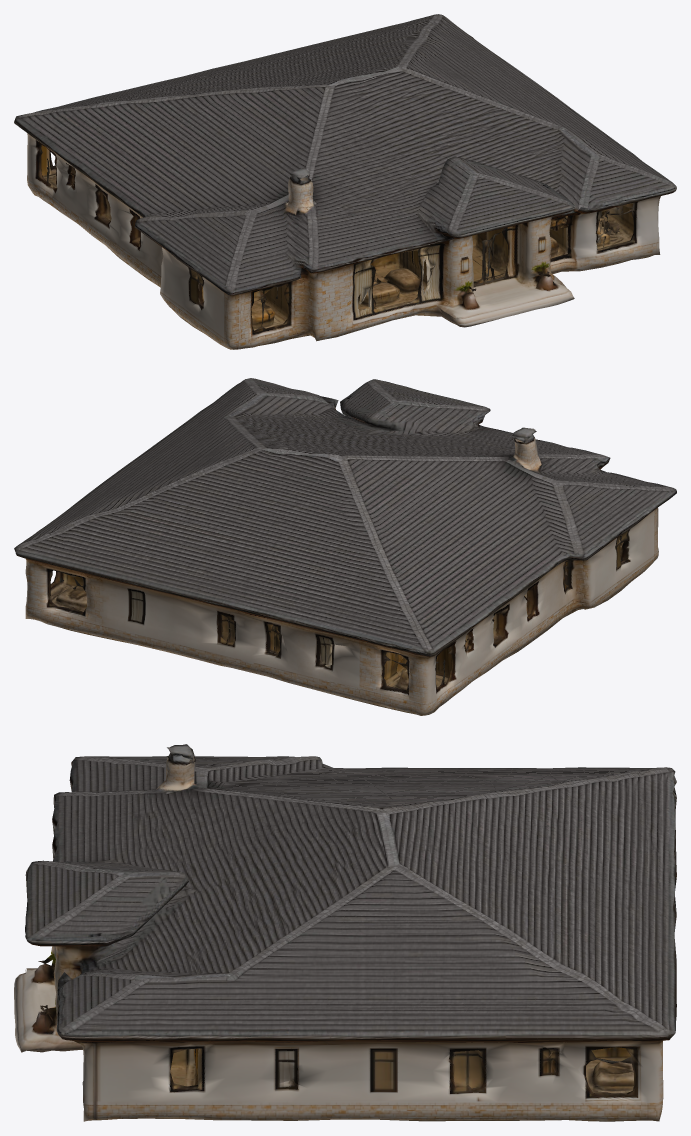
The model's file is tripo_convert_4a1ac447-02fc-4d89-bdd1-1f7308e81ab9.fbx.
3 renders of one model, top to bottom at view 1: azimuth 30°, elevation 25°; view 2: azimuth 150°, elevation 25°; view 3: azimuth 270°, elevation 25°, orthographic. The views are drawn at different scales.
Visible parts, largest first — view 1: tripo_node_4a1ac447; view 2: tripo_node_4a1ac447; view 3: tripo_node_4a1ac447.
Boxes of the visible parts, left/top/right/bottom form: tripo_node_4a1ac447: left=14, top=14, right=676, bottom=349; tripo_node_4a1ac447: left=14, top=378, right=676, bottom=715; tripo_node_4a1ac447: left=14, top=744, right=676, bottom=1121.
Size of the model in its own units: 97.85 by 97.51 by 29.13.
Materials: 1 (1 with a texture image).
